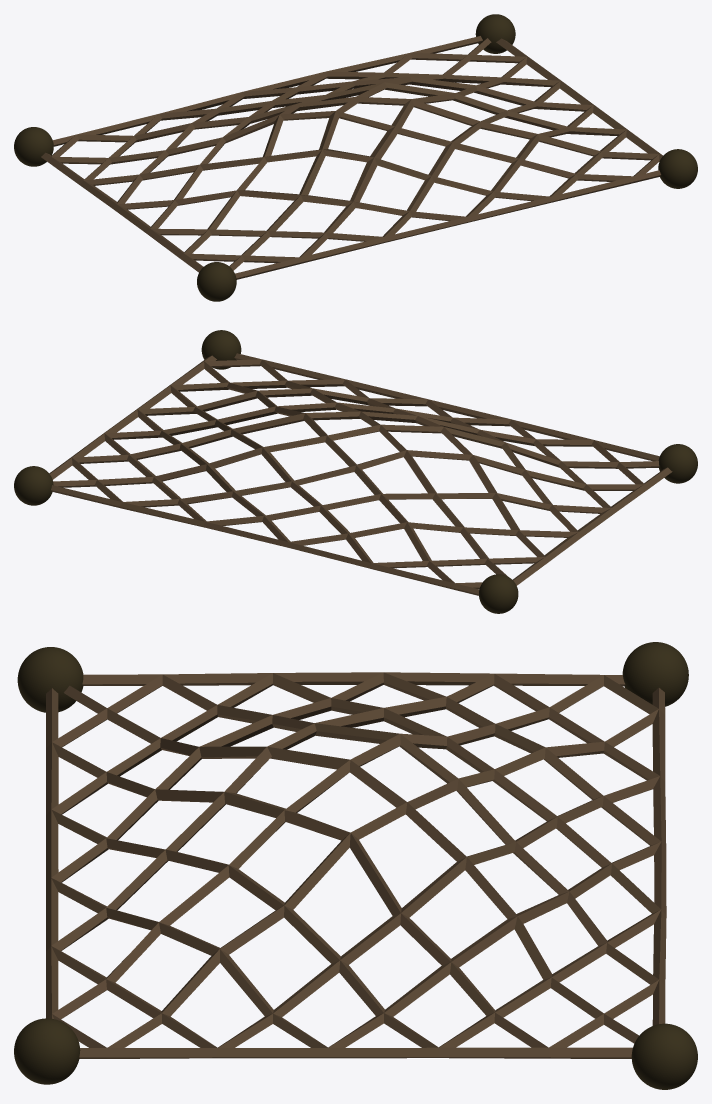
Rendered from ropenet2.fbx.
3 views of the same model, one above another, from view 1: azimuth 30°, elevation 25°; view 2: azimuth 150°, elevation 25°; view 3: azimuth 270°, elevation 25° (orthographic). The views are drawn at different scales.
Visible parts, largest first — view 1: Plane, Icosphere.002, Icosphere.003, Icosphere.001, Icosphere; view 2: Plane, Icosphere.001, Icosphere, Icosphere.002, Icosphere.003; view 3: Plane, Icosphere, Icosphere.003, Icosphere.001, Icosphere.002.
Boxes of the visible parts, x1,y1,x2,y2 form: Plane: (41, 36, 662, 279); Icosphere.002: (197, 262, 236, 301); Icosphere.003: (658, 149, 697, 188); Icosphere.001: (14, 127, 53, 166); Icosphere: (475, 14, 515, 53); Plane: (49, 353, 672, 595); Icosphere.001: (479, 574, 518, 613); Icosphere: (14, 466, 53, 505); Icosphere.002: (658, 444, 697, 483); Icosphere.003: (201, 330, 241, 369); Plane: (46, 672, 666, 1058); Icosphere: (631, 1023, 697, 1089); Icosphere.003: (14, 1018, 80, 1084); Icosphere.001: (622, 642, 688, 706); Icosphere.002: (17, 647, 83, 712).
Size of the model in its own units: 316 by 43.88 by 225.
